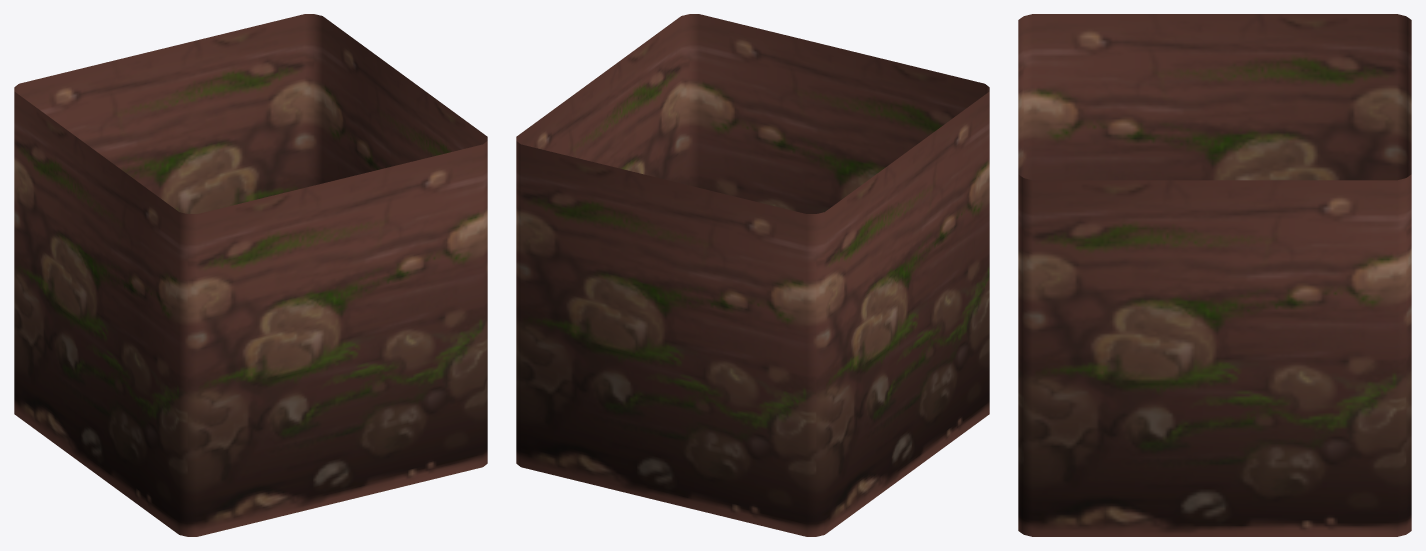
The model's file is Block_Rounded_Soil.fbx.
The picture shows the model from 3 angles, left to right: view 1: azimuth 30°, elevation 25°; view 2: azimuth 150°, elevation 25°; view 3: azimuth 270°, elevation 25°; orthographic projection. The views are drawn at different scales.
Visible parts, largest first — view 1: Block_Rounded_Soil; view 2: Block_Rounded_Soil; view 3: Block_Rounded_Soil.
Boxes of the visible parts, left/top/right/bottom form: Block_Rounded_Soil: left=14, top=14, right=487, bottom=536; Block_Rounded_Soil: left=516, top=14, right=989, bottom=536; Block_Rounded_Soil: left=1018, top=14, right=1411, bottom=536.
Size of the model in its own units: 100 by 100 by 100.
